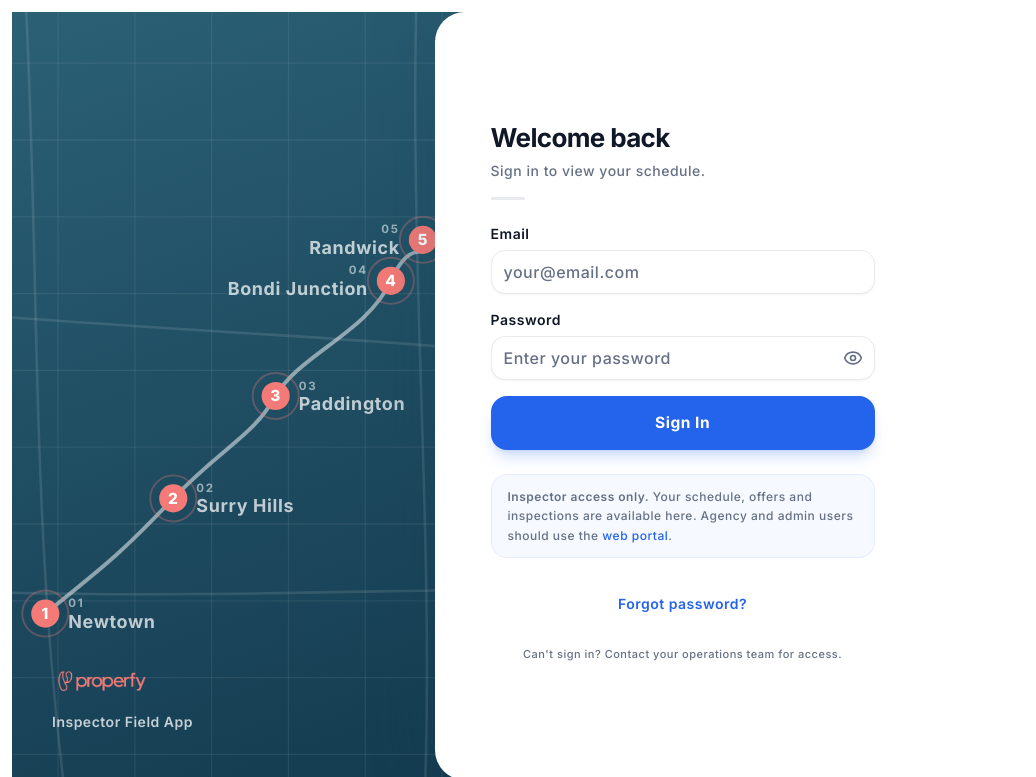
it: LoginPage › shows invalid TOTP message when the authentication code is wrong
Type "inspector@test.com" into the field with test id "email-input" at [682, 272], box [490,250,874,294]
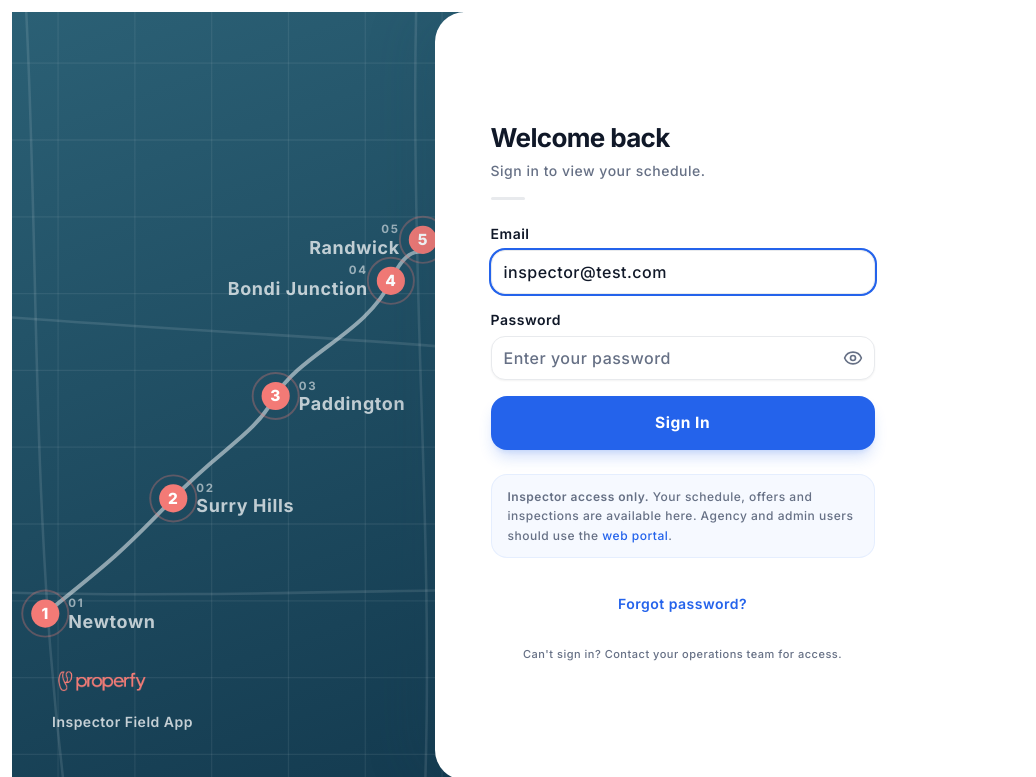
Type "password123" into the password field with test id "password-input" at [682, 358], box [490,336,874,380]
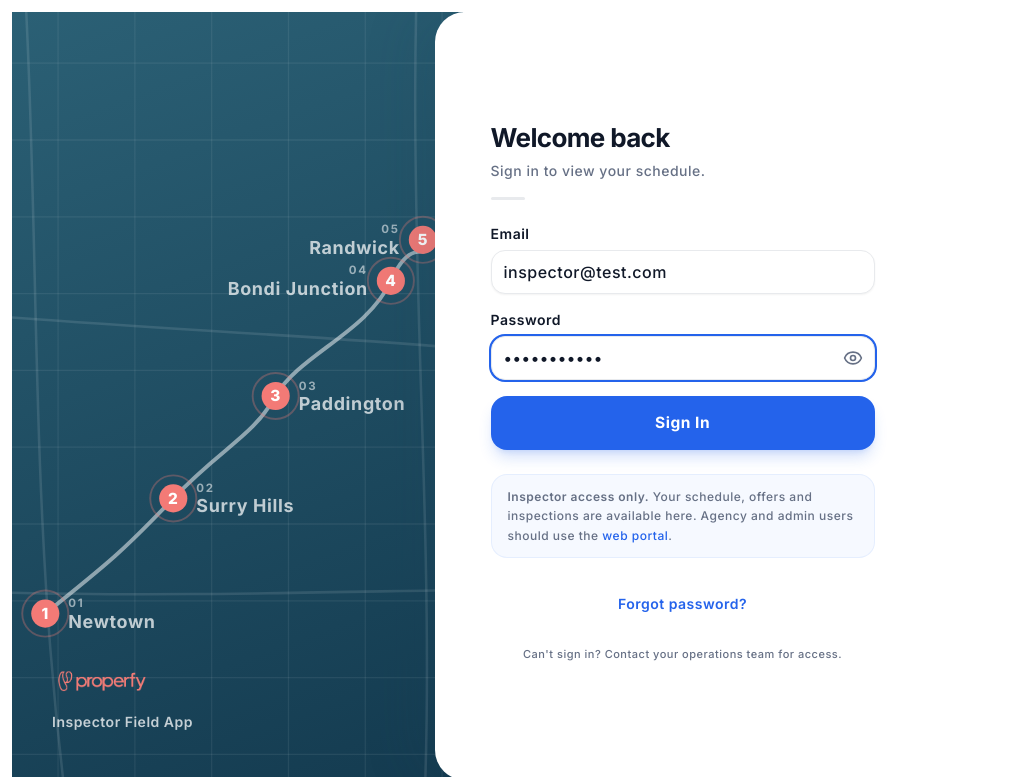
Click the button with test id "login-button" at [682, 422], box [490,396,874,450]
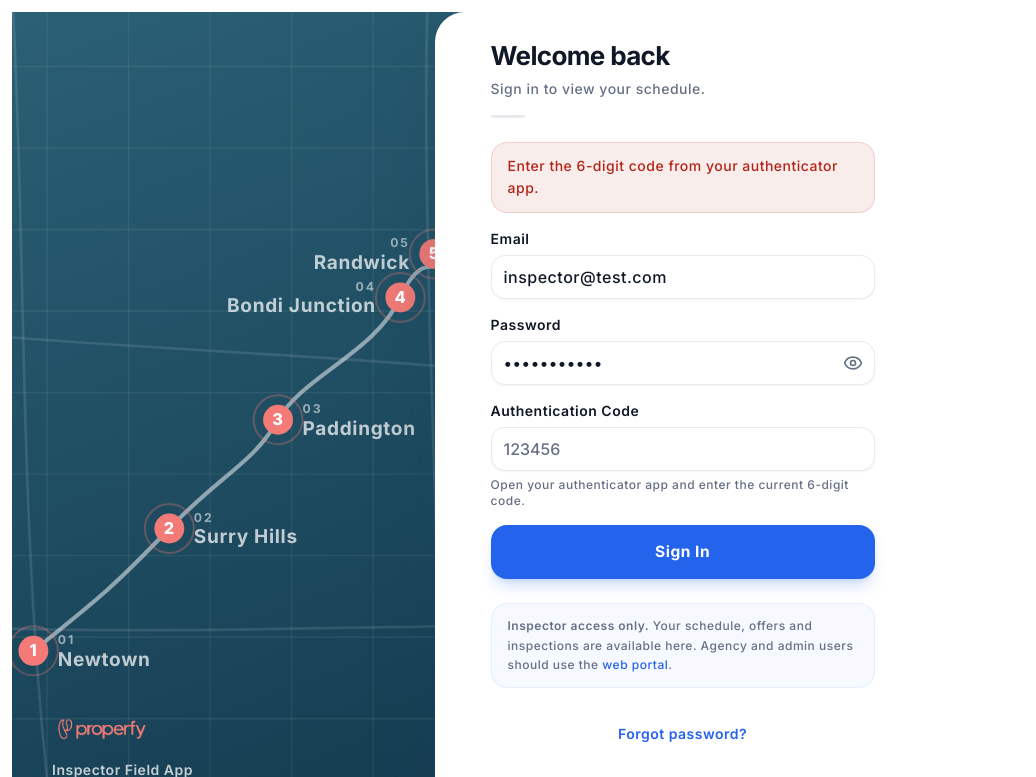
Result: the field with test id "totp-input" is shown
Type "654321" into the field with test id "totp-input" at [682, 449], box [490,427,874,471]
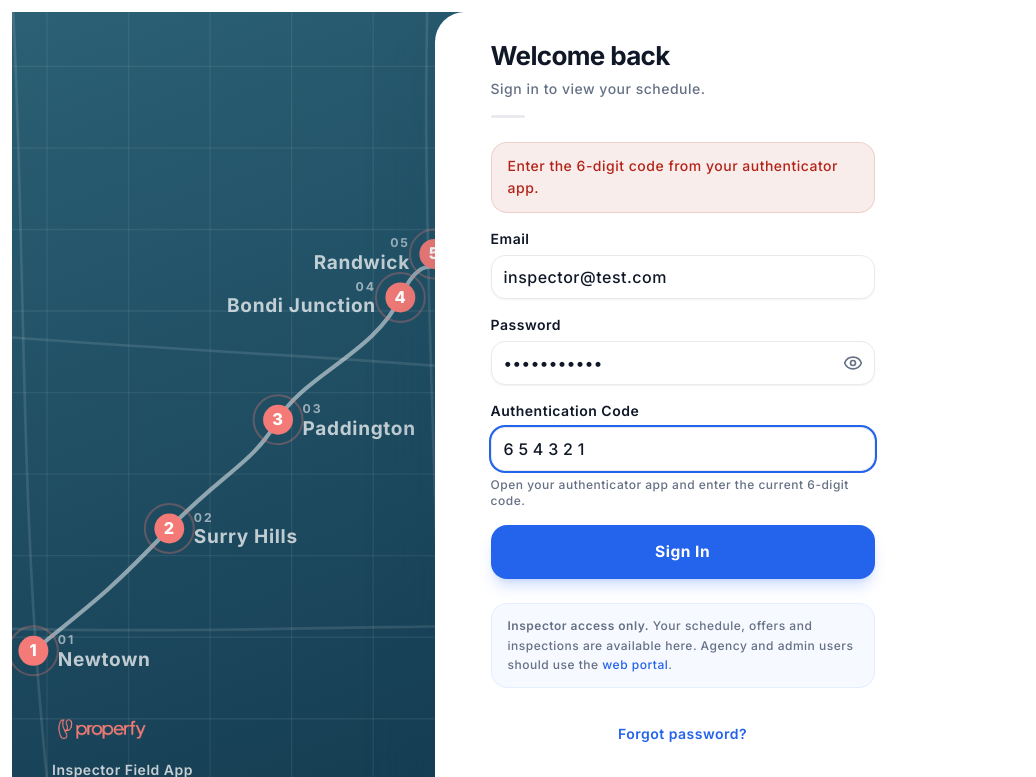
Click the button with test id "login-button" at [682, 552], box [490,525,874,579]
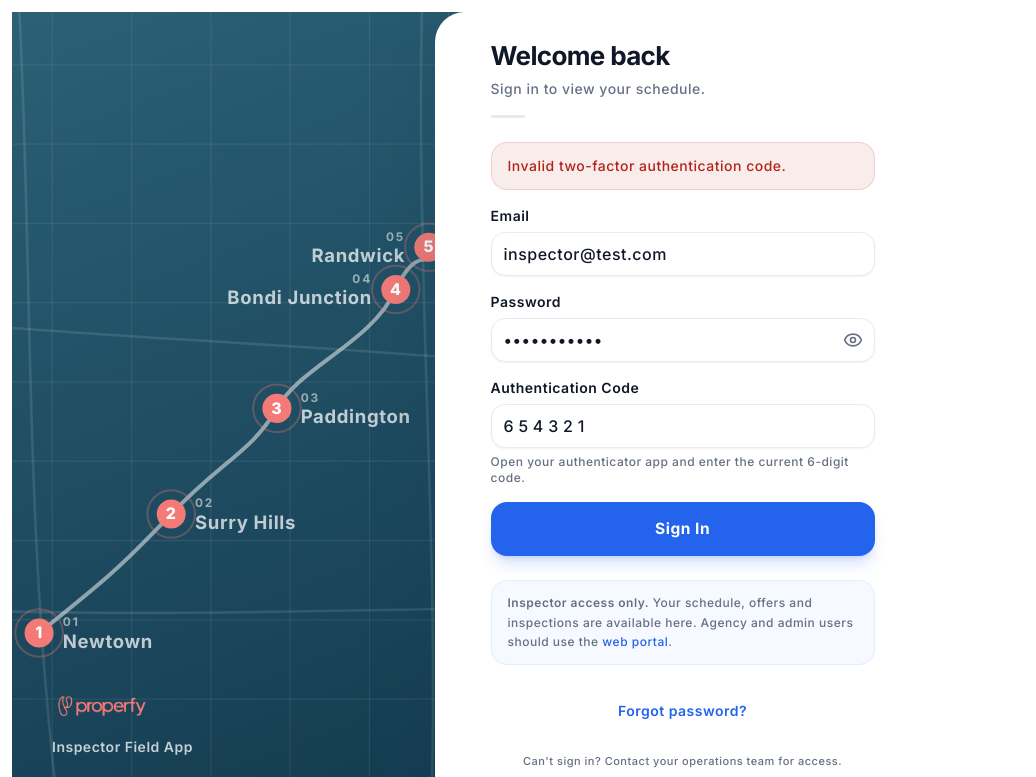
Result: the text "Invalid two-factor authentication code." is shown at [490,142,874,190]
